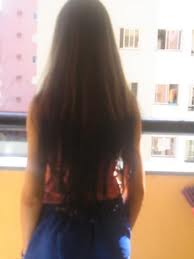Humano: (27, 1, 146, 259)
